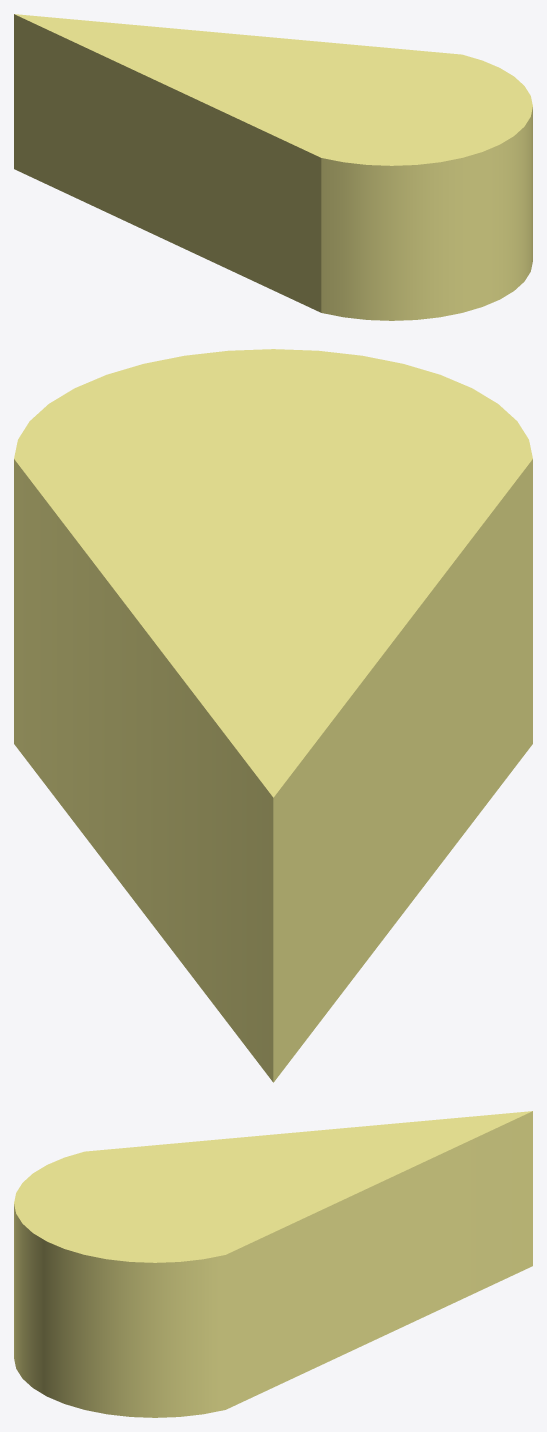
The model's file is SpinToWinPointer.fbx.
3 renders of one model, top to bottom at view 1: azimuth 30°, elevation 25°; view 2: azimuth 150°, elevation 25°; view 3: azimuth 270°, elevation 25°, orthographic. The views are drawn at different scales.
Visible parts, largest first — view 1: Pointer; view 2: Pointer; view 3: Pointer.
Part boxes in pixels (x1,y1,x2,y2): Pointer: (14, 14, 532, 320); Pointer: (14, 349, 532, 1082); Pointer: (14, 1111, 532, 1417).
Size of the model in its own units: 84.01 by 40 by 121.
